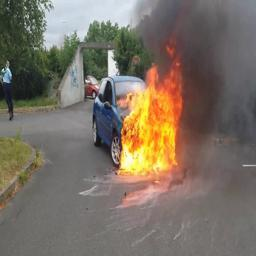fire: (119, 42, 180, 176)
